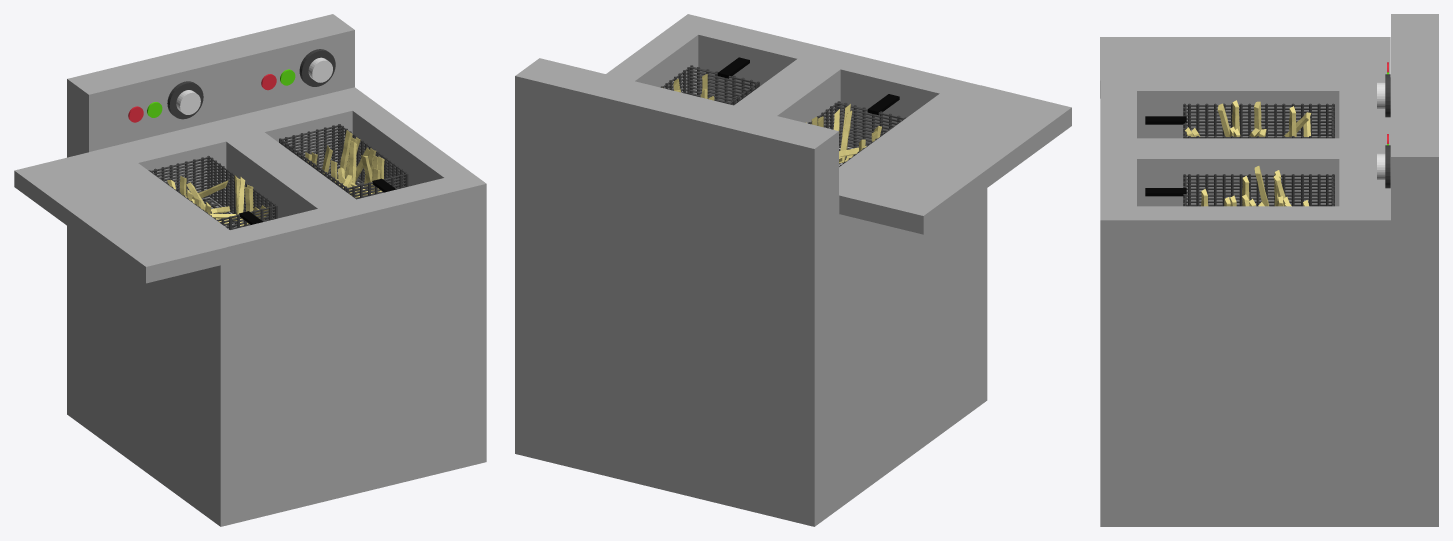
The model's file is fryer.fbx.
3 renders of one model, left to right at view 1: azimuth 30°, elevation 25°; view 2: azimuth 150°, elevation 25°; view 3: azimuth 270°, elevation 25°, orthographic. The views are drawn at different scales.
Visible parts, largest first — view 1: oven, Cube, fry basket.003, fry basket.001, Cylinder.001, Cylinder; view 2: oven, Cube, fry basket.003, fry basket.001; view 3: oven, Cube, fry basket.003, fry basket.001.
Part boxes in pixels (x1,y1,x2,y2): oven: (67, 14, 486, 526); Cube: (14, 151, 226, 283); fry basket.003: (150, 157, 275, 229); fry basket.001: (281, 125, 406, 199); Cylinder.001: (167, 81, 203, 119); Cylinder: (299, 49, 335, 86); oven: (515, 14, 987, 526); Cube: (839, 85, 1071, 234); fry basket.003: (811, 102, 904, 166); fry basket.001: (663, 66, 757, 104); oven: (1100, 14, 1438, 526); Cube: (1100, 37, 1390, 98); fry basket.003: (1184, 105, 1333, 138); fry basket.001: (1184, 175, 1333, 206).
Bounding box in the file's own units: 539 × 507 × 421.
